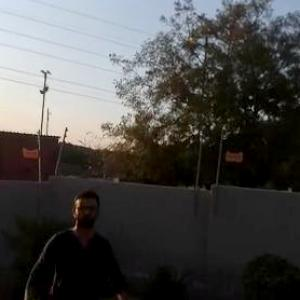follow: (17, 179, 135, 299)
